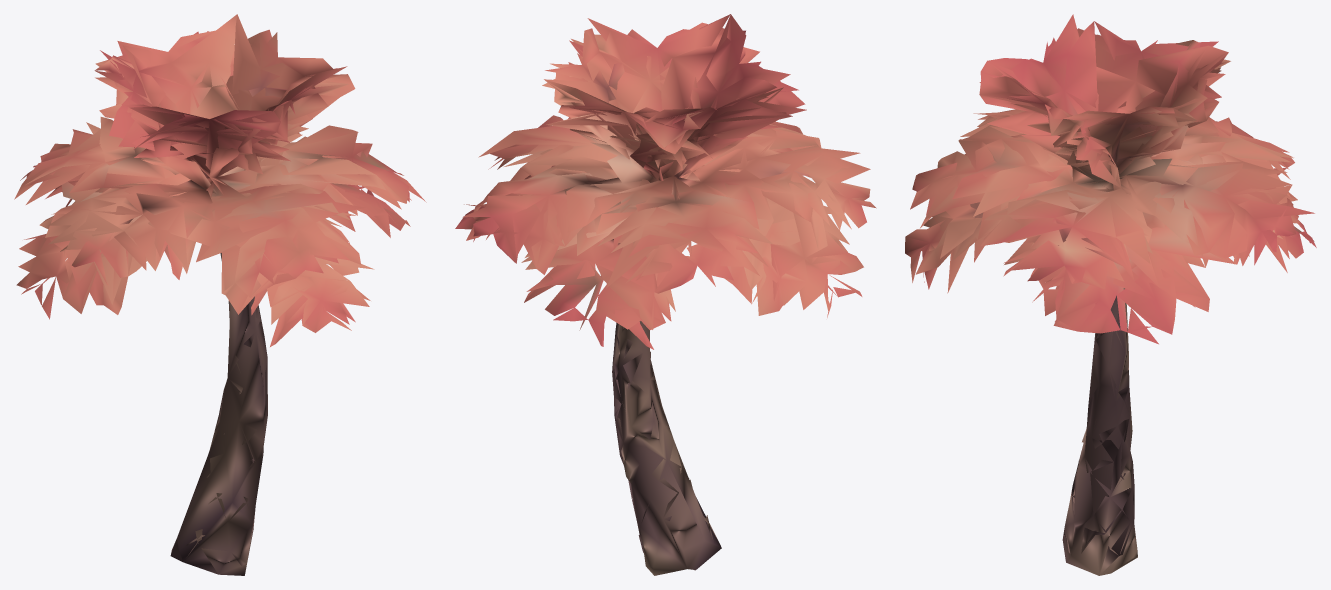
Rendered from palm.glb.
The picture shows the model from 3 angles, left to right: view 1: azimuth 30°, elevation 25°; view 2: azimuth 150°, elevation 25°; view 3: azimuth 270°, elevation 25°; orthographic projection.
Parts seen in each view (by area): view 1: palm; view 2: palm; view 3: palm.
Boxes of the visible parts, x1,y1,x2,y2 form: palm: [14, 14, 426, 575]; palm: [455, 14, 876, 575]; palm: [905, 14, 1316, 575].
Bounding box in the file's own units: 5.16 × 6.93 × 5.13.
